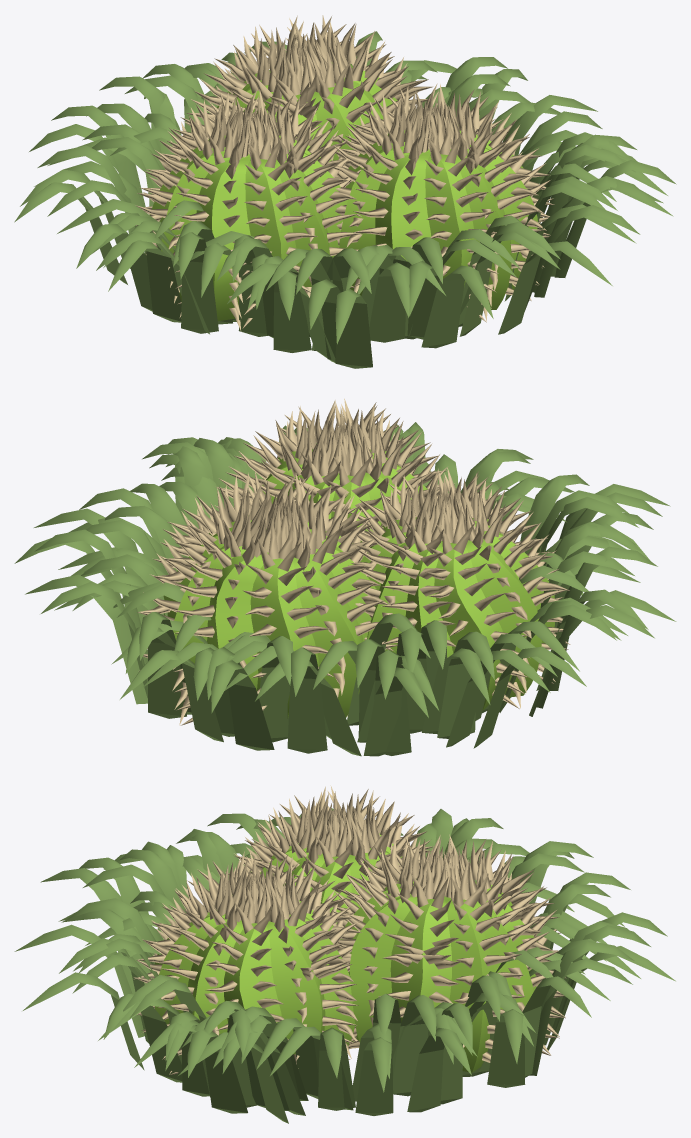
The model's file is SCactus2.fbx.
3 views of the same model, one above another, from view 1: azimuth 30°, elevation 25°; view 2: azimuth 150°, elevation 25°; view 3: azimuth 270°, elevation 25° (orthographic). The views are drawn at different scales.
Visible parts, largest first — view 1: SCactus2; view 2: SCactus2; view 3: SCactus2.
Part boxes in pixels (left/top/right/bottom): SCactus2: left=14, top=15, right=676, bottom=368; SCactus2: left=14, top=398, right=676, bottom=756; SCactus2: left=14, top=785, right=675, bottom=1123.
Size of the model in its own units: 335 by 117 by 348.
